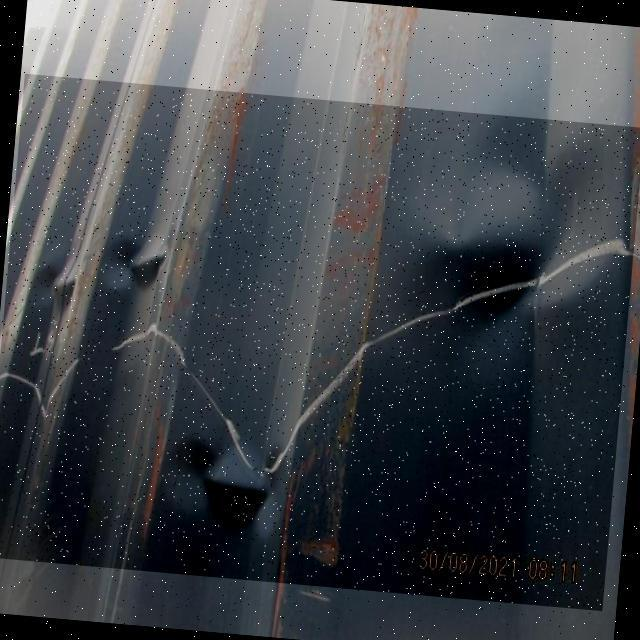Dent: (0, 73, 640, 610)
